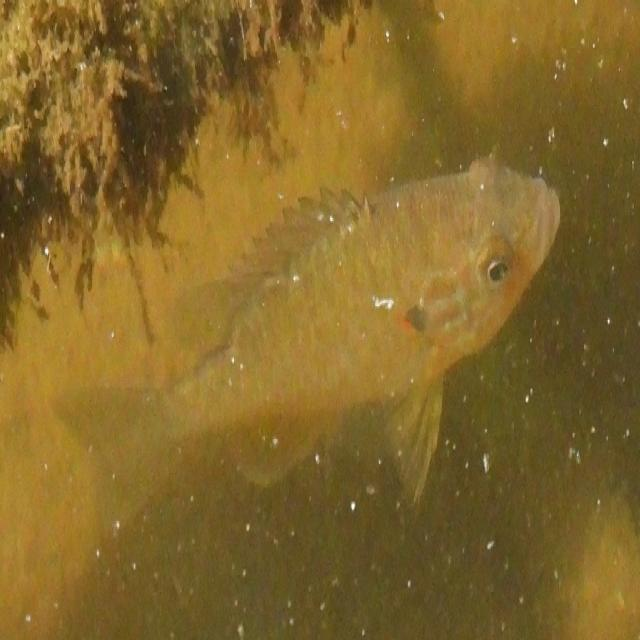Gunes Levregi: (50, 147, 562, 513)
